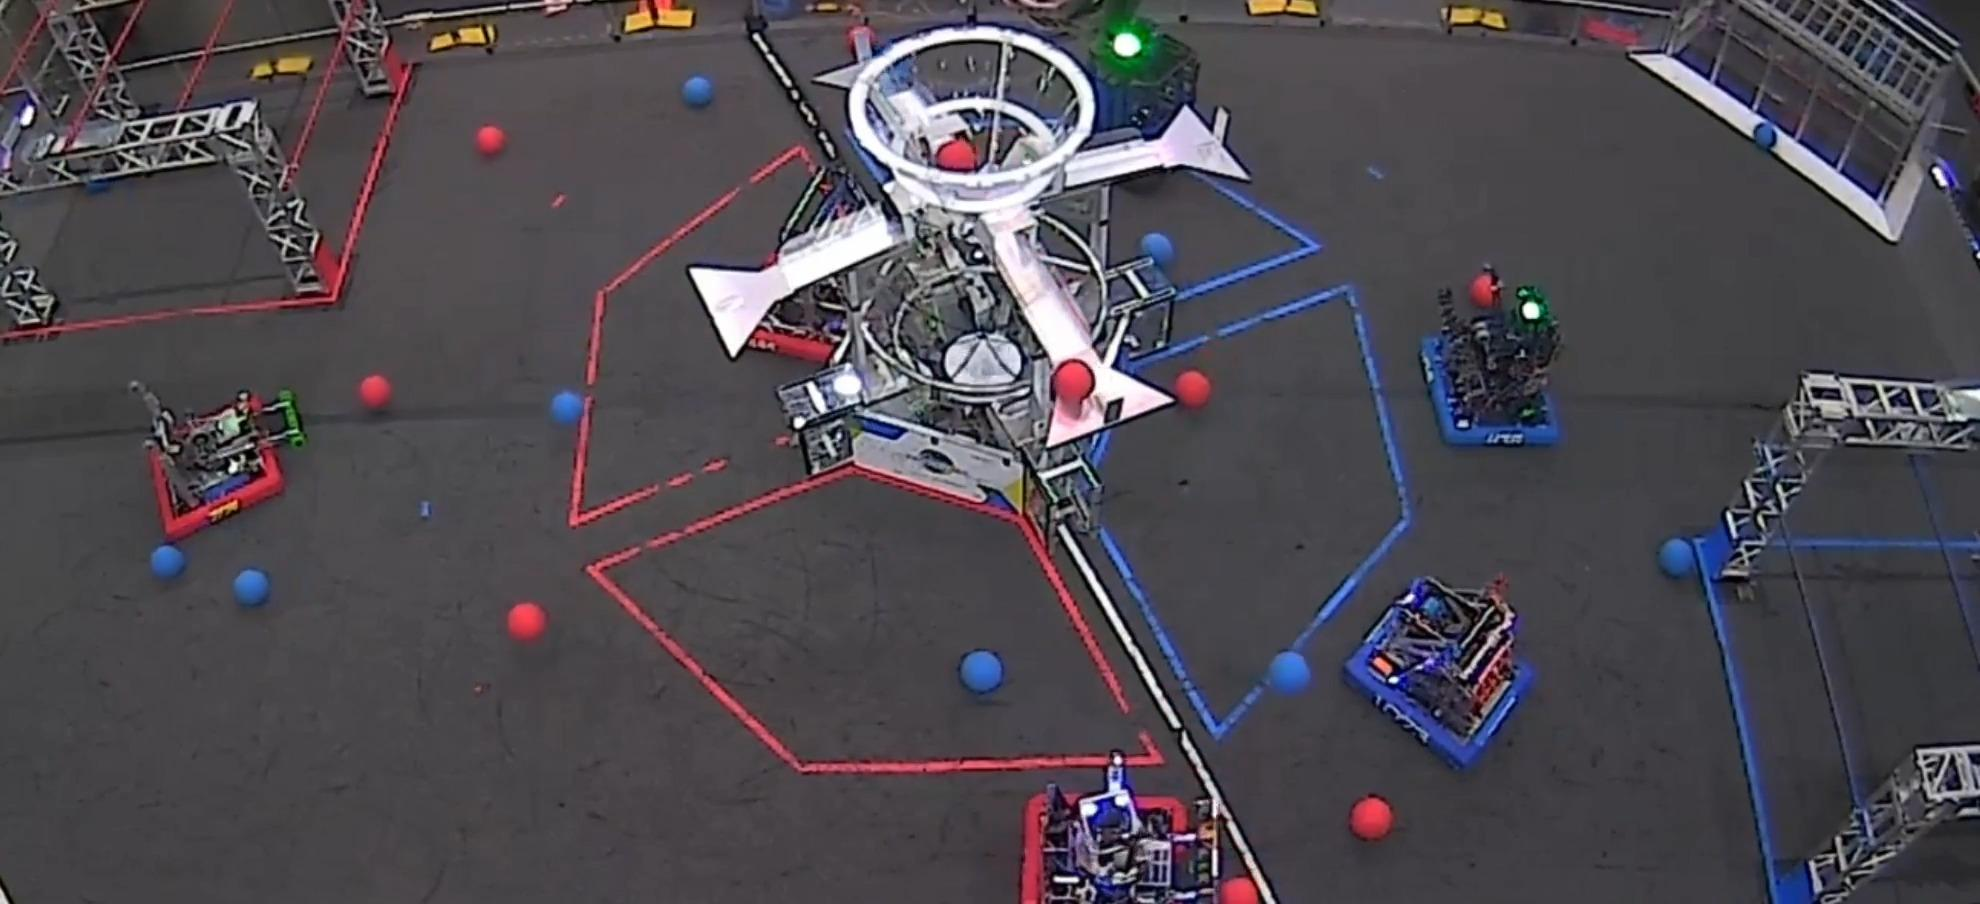Robots: (1347, 577, 1530, 766), (1027, 752, 1219, 903), (130, 381, 306, 540), (1426, 265, 1560, 444), (1090, 13, 1203, 183), (785, 164, 861, 372), (777, 271, 785, 273), (788, 205, 790, 205)
